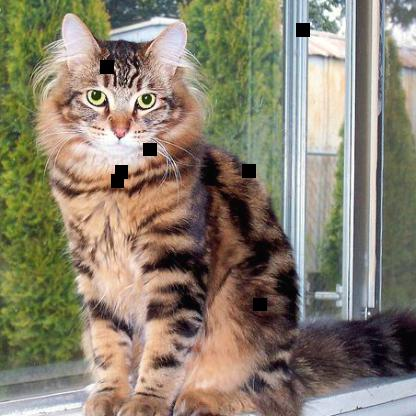cat: (38, 13, 416, 415)
